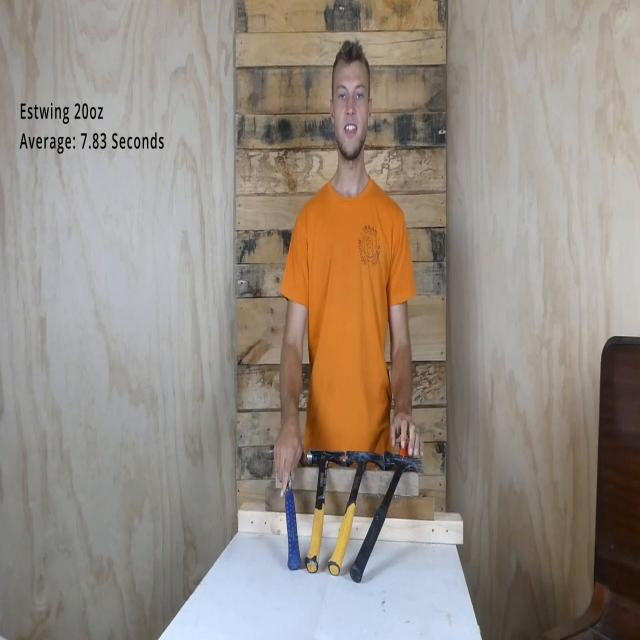hammer: (349, 454, 424, 583), (328, 452, 385, 576), (306, 451, 345, 574), (270, 444, 303, 570)
